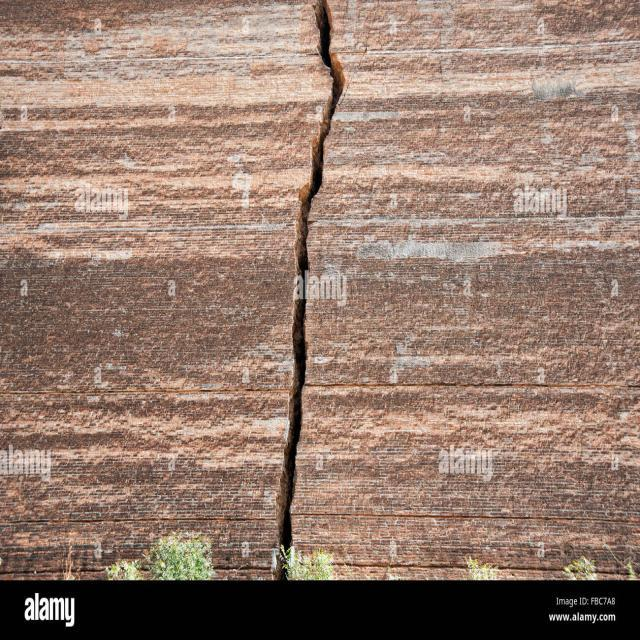Crack: (272, 0, 347, 578)
